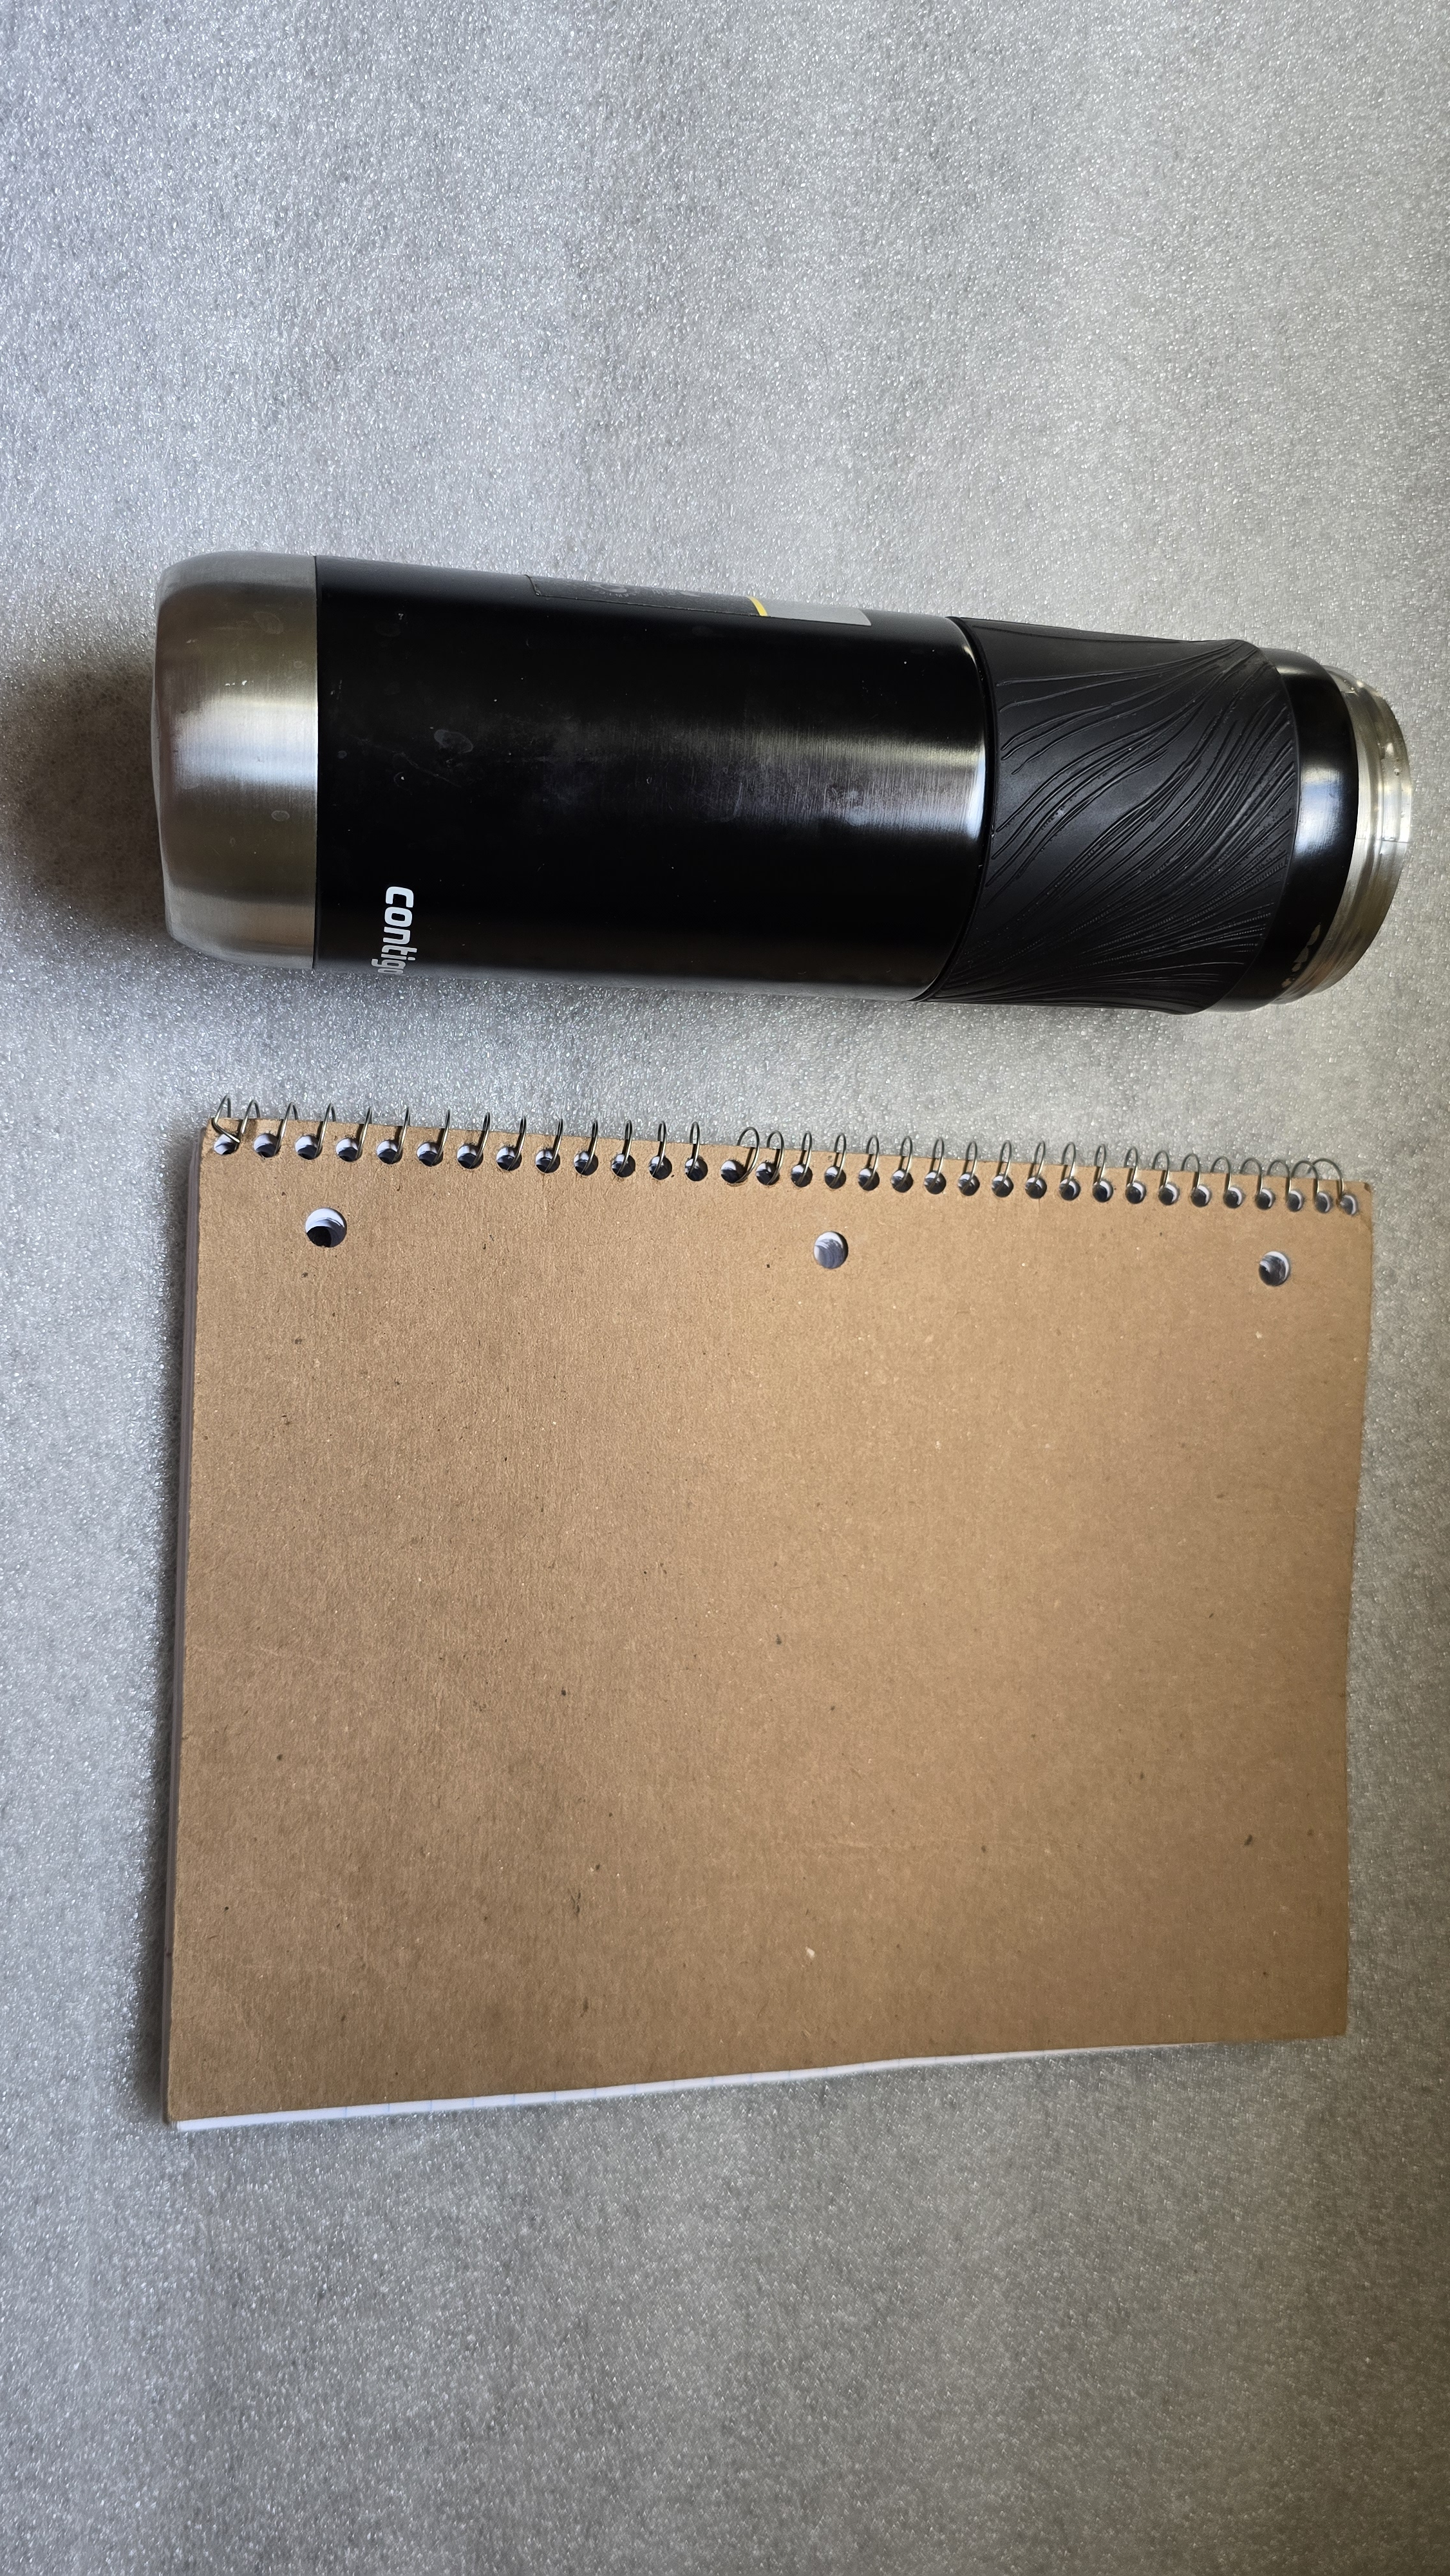bottle: (80, 520, 1450, 1056)
